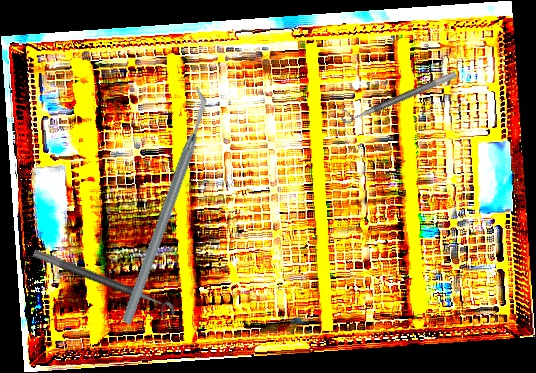Chopper: (46, 85, 281, 326)
Fixation Ring: (27, 248, 178, 326), (337, 60, 458, 127)
